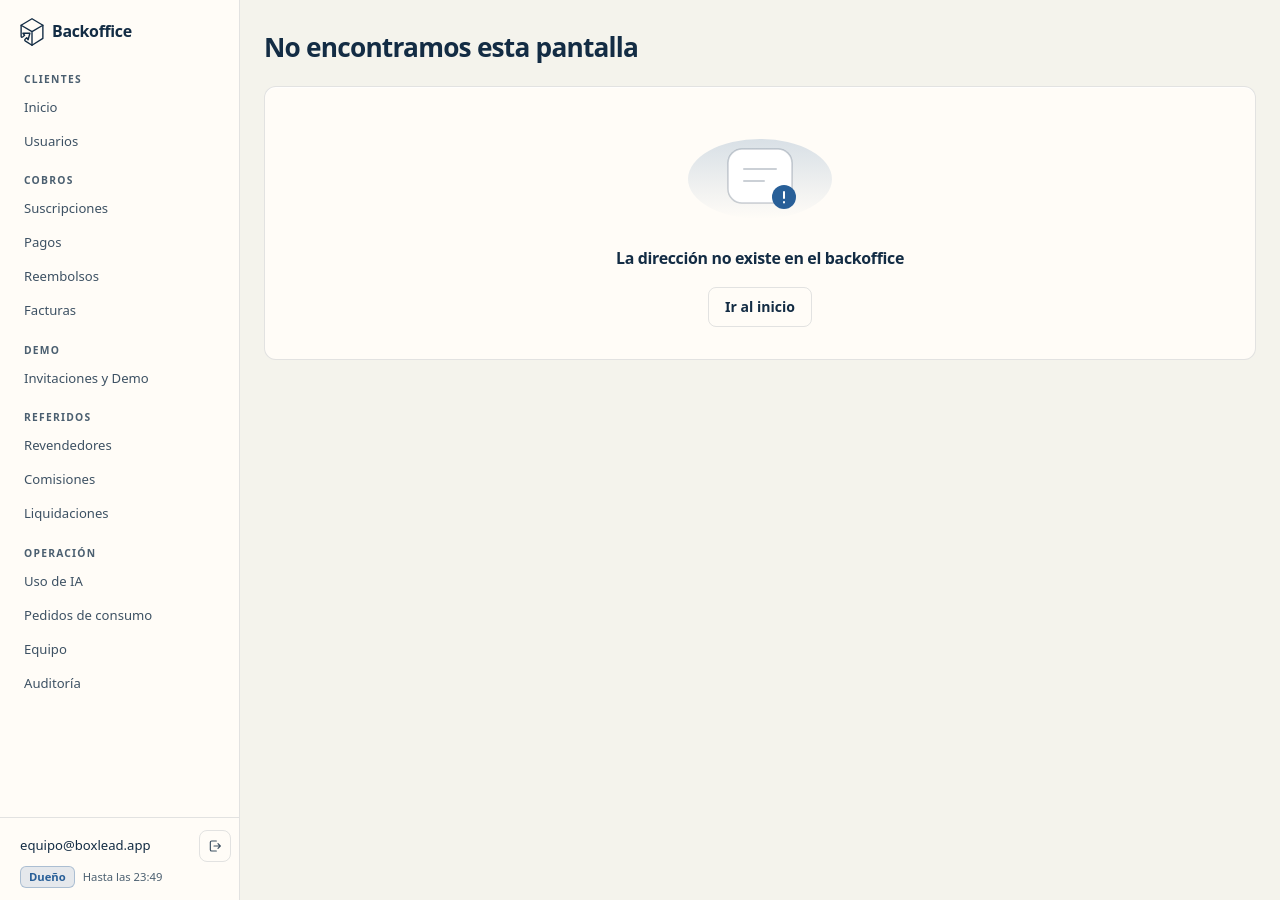
it: MissingScreens › explains a route that does not exist and goes back home
Expected: the heading "No encontramos esta pantalla" is shown, [264,29,638,65]
Expected: the text "La dirección no existe en el backoffice" is shown, [616,247,904,271]
Click the link "Ir al inicio": (760, 307) [708,287,812,327]
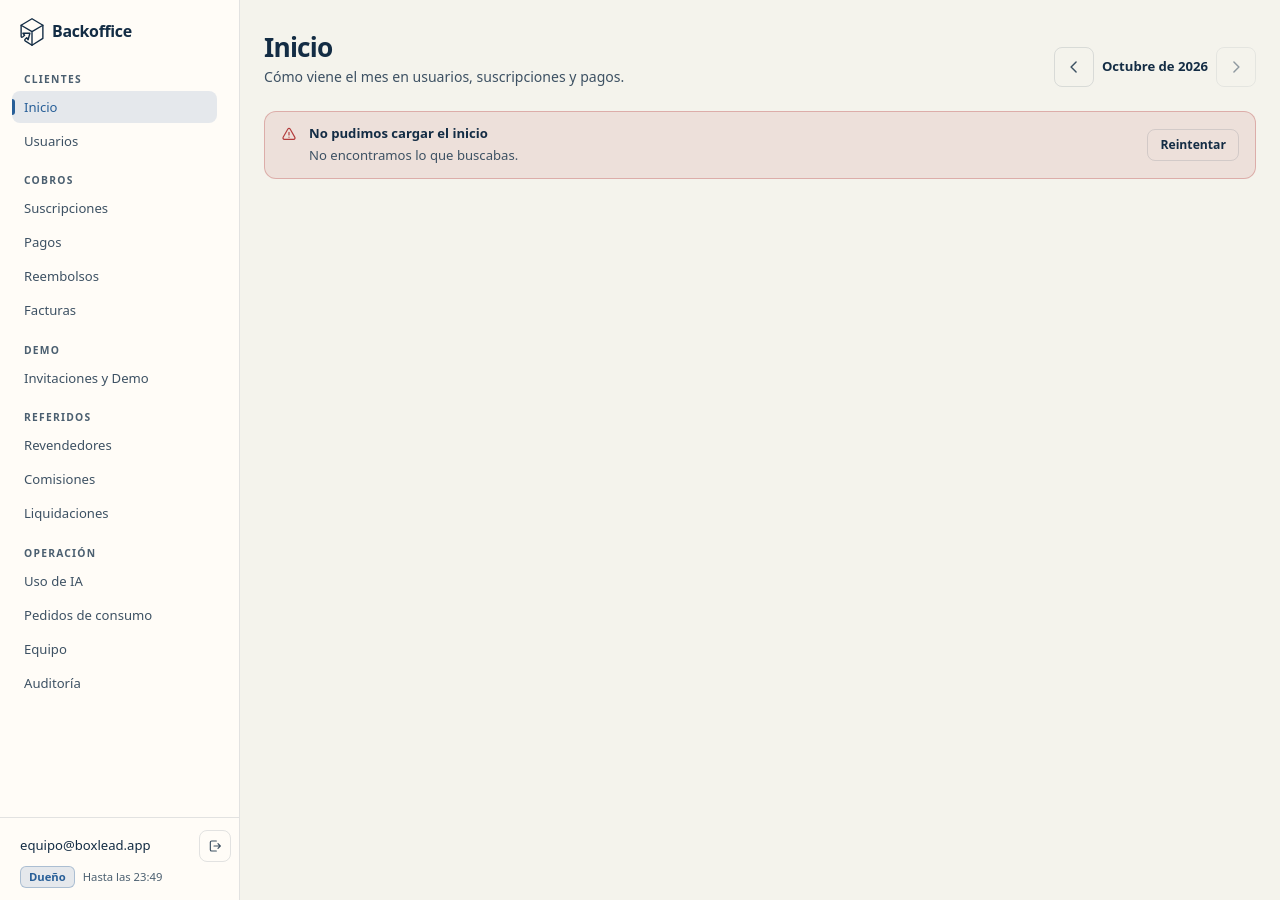
Now the heading "Inicio" is shown, box [264,29,332,65]
